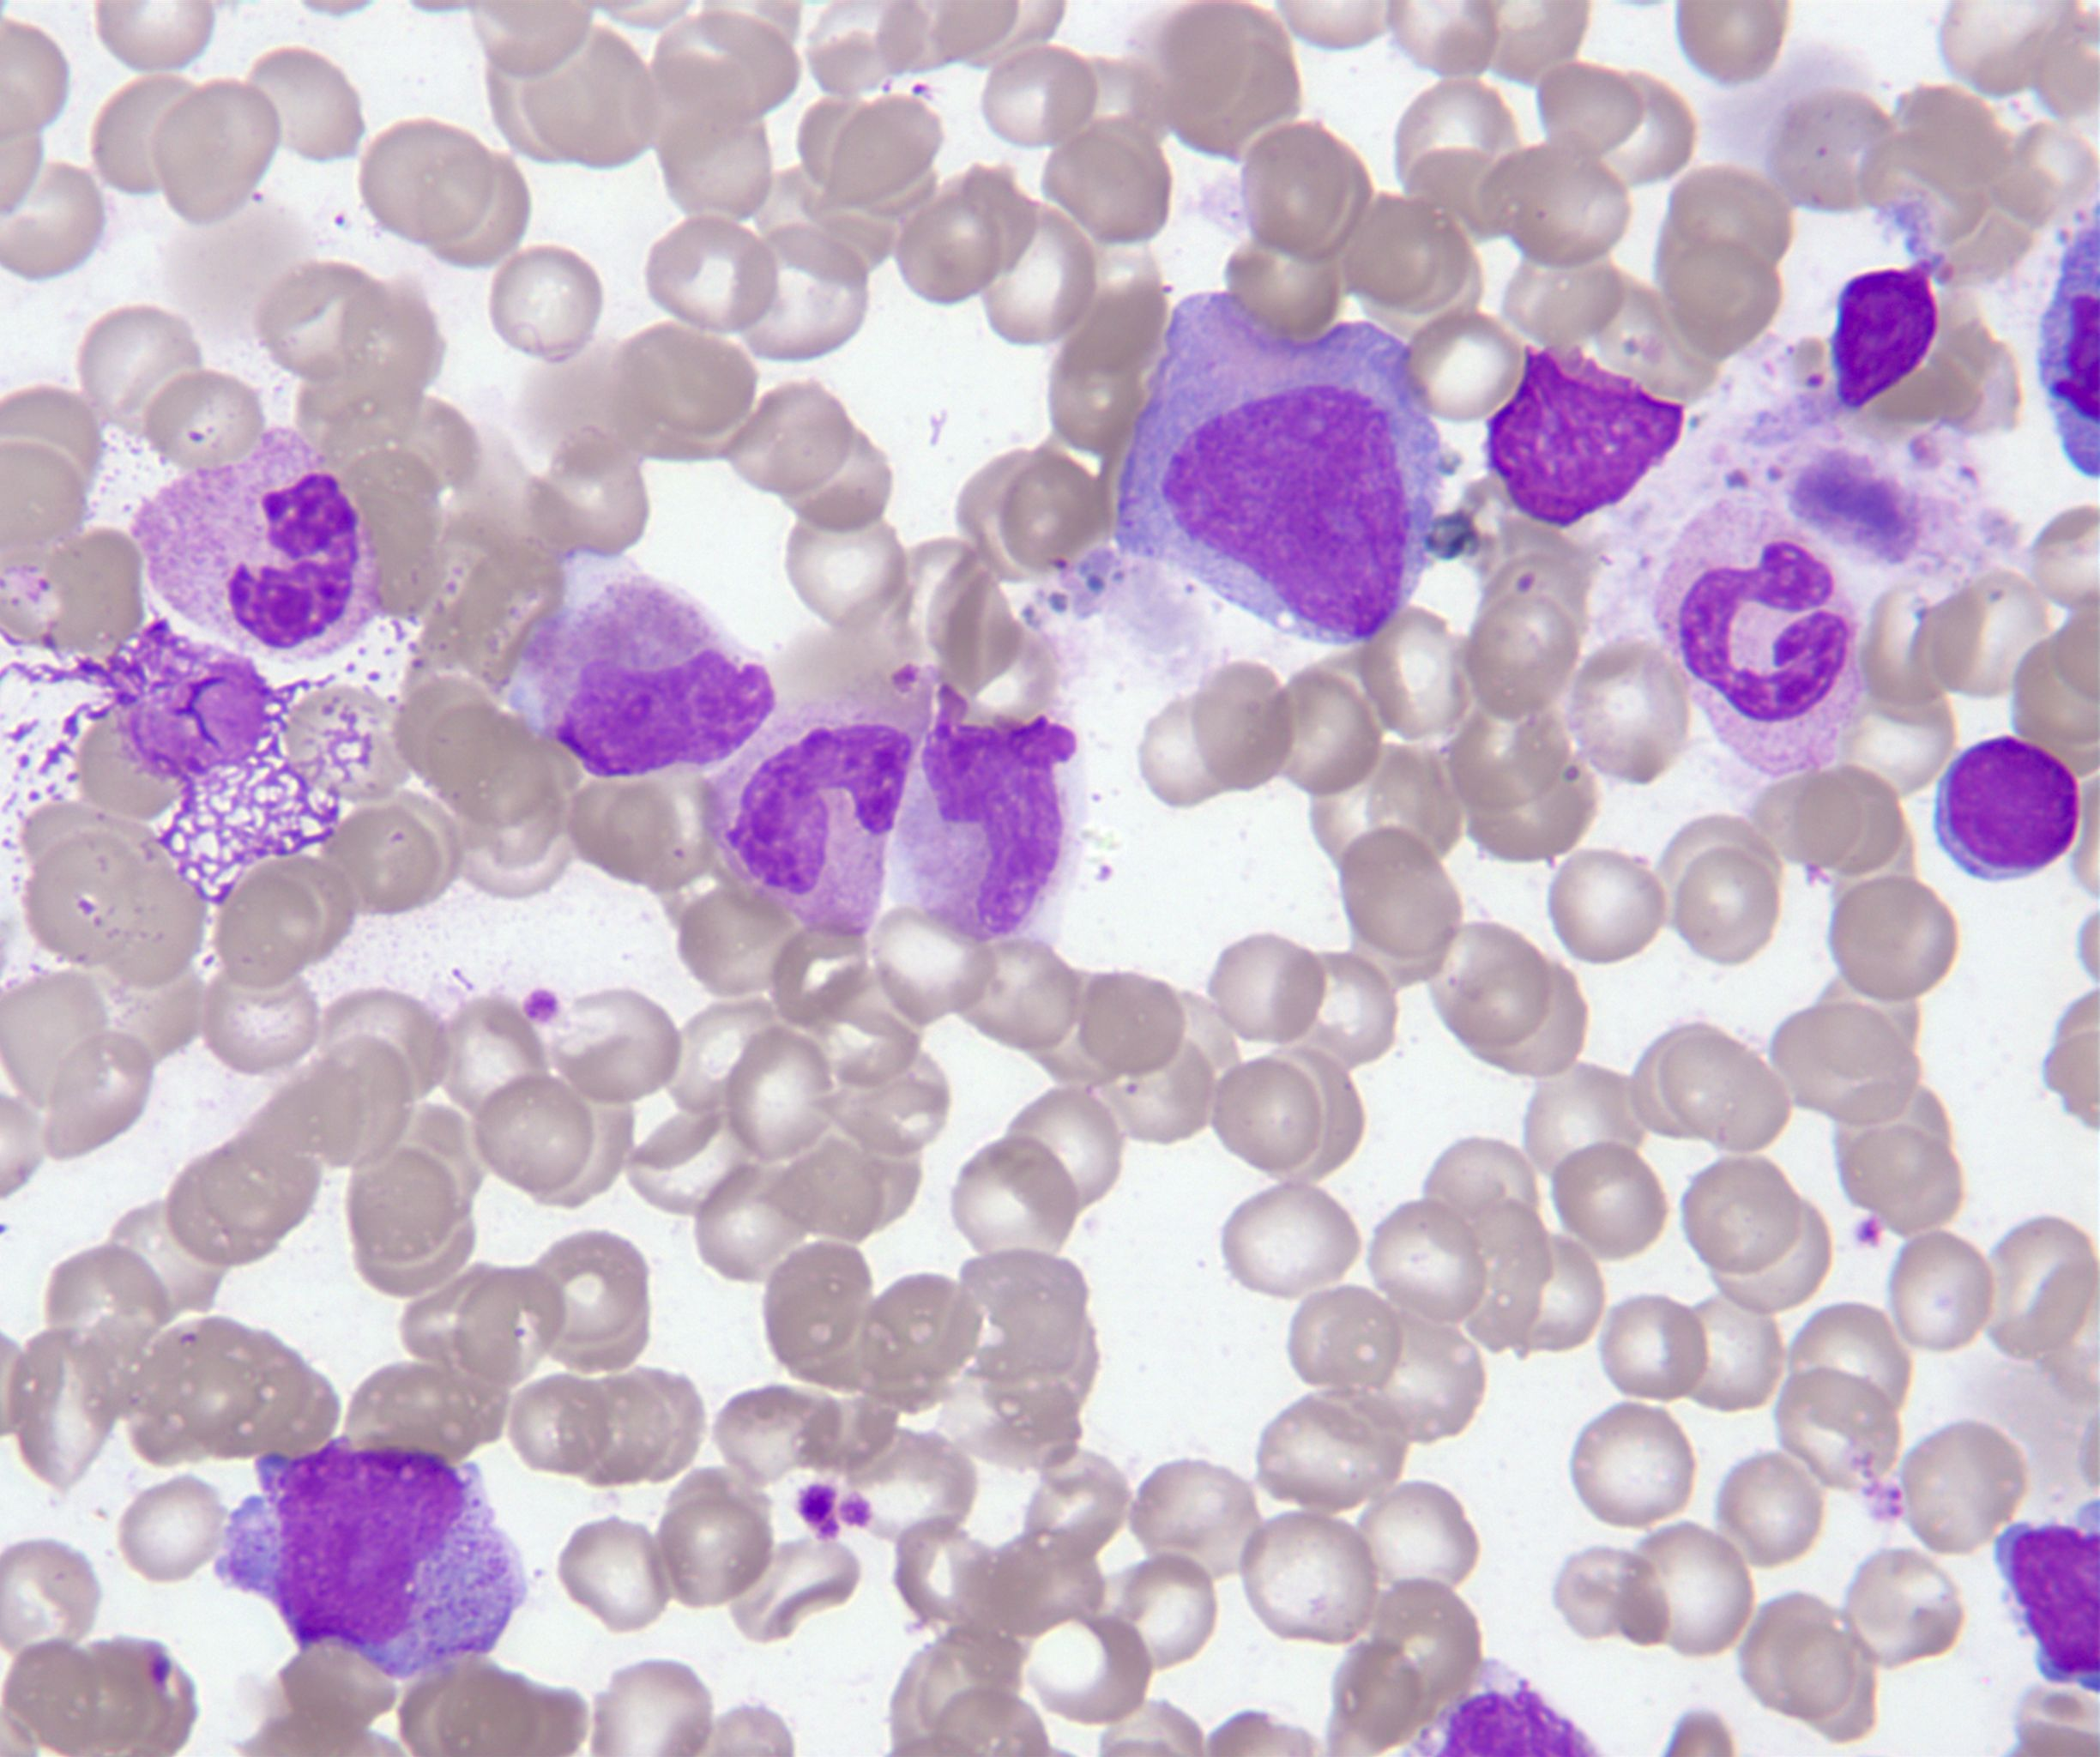3: (1108, 281, 1449, 656), (201, 1438, 525, 1682)
32: (1927, 726, 2081, 895)
4: (698, 682, 917, 947), (910, 679, 1090, 951)
5: (1640, 490, 1868, 782)
6: (124, 424, 385, 672)
E2: (494, 557, 785, 787)
x: (1476, 340, 1694, 537)
